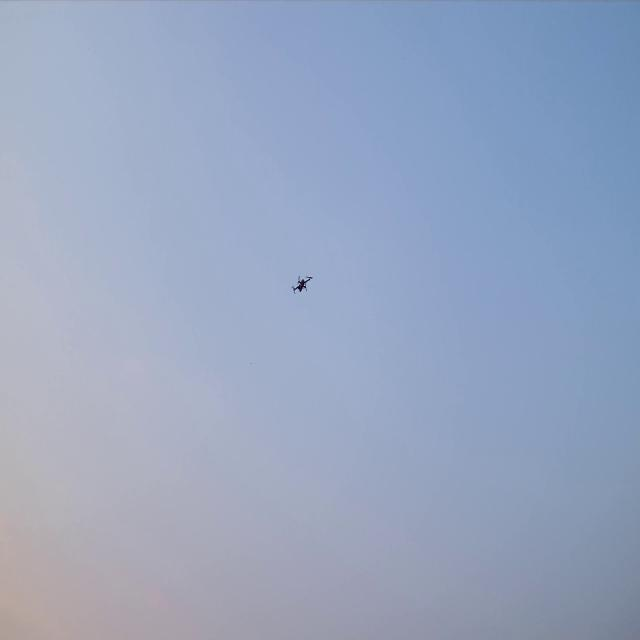UAV: (293, 277, 311, 292)
